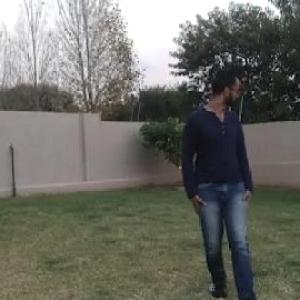follow: (166, 14, 272, 299)
